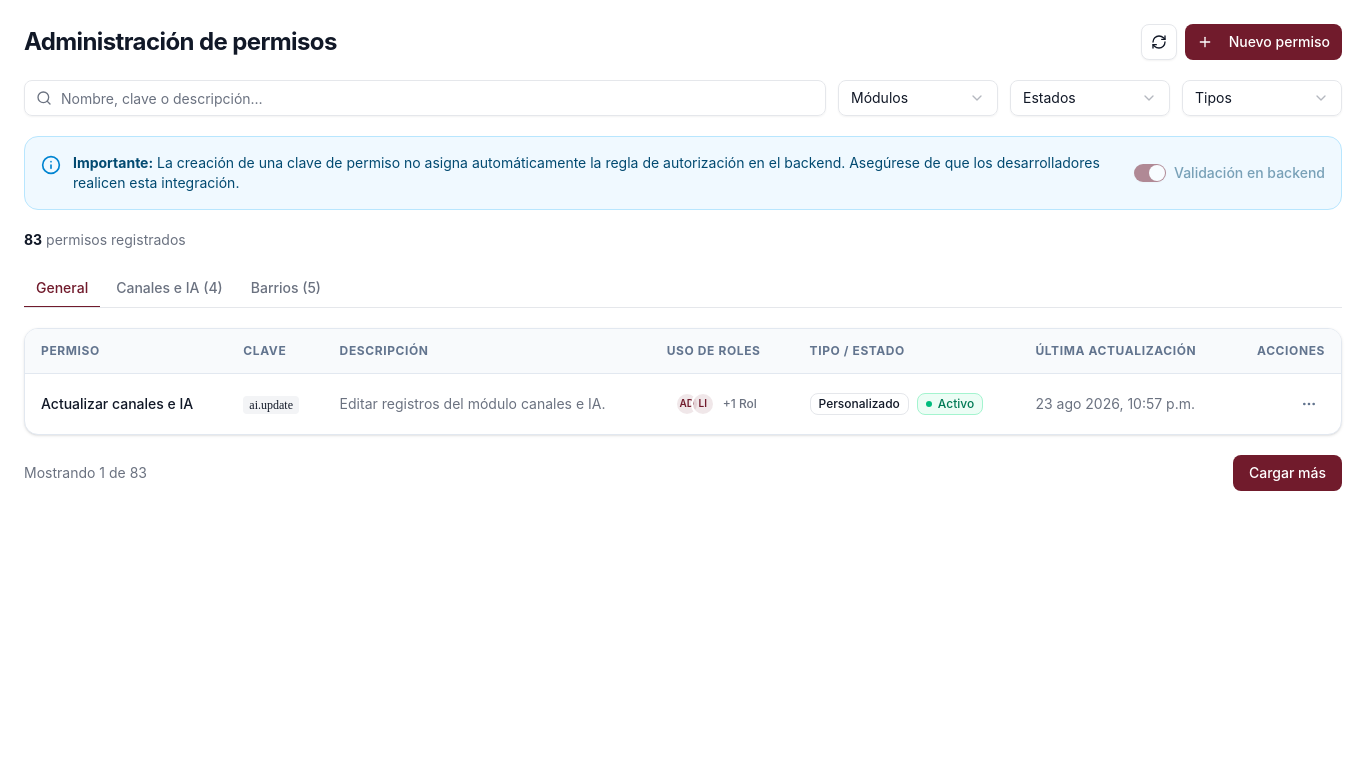
Test: PermissionsView › opens the clone dialog prefilled from the row
The width and height of the screenshot is (1366, 768).
Press Enter in the button named "Acciones para Actualizar canales e IA", box 1293,388 -> 1325,420
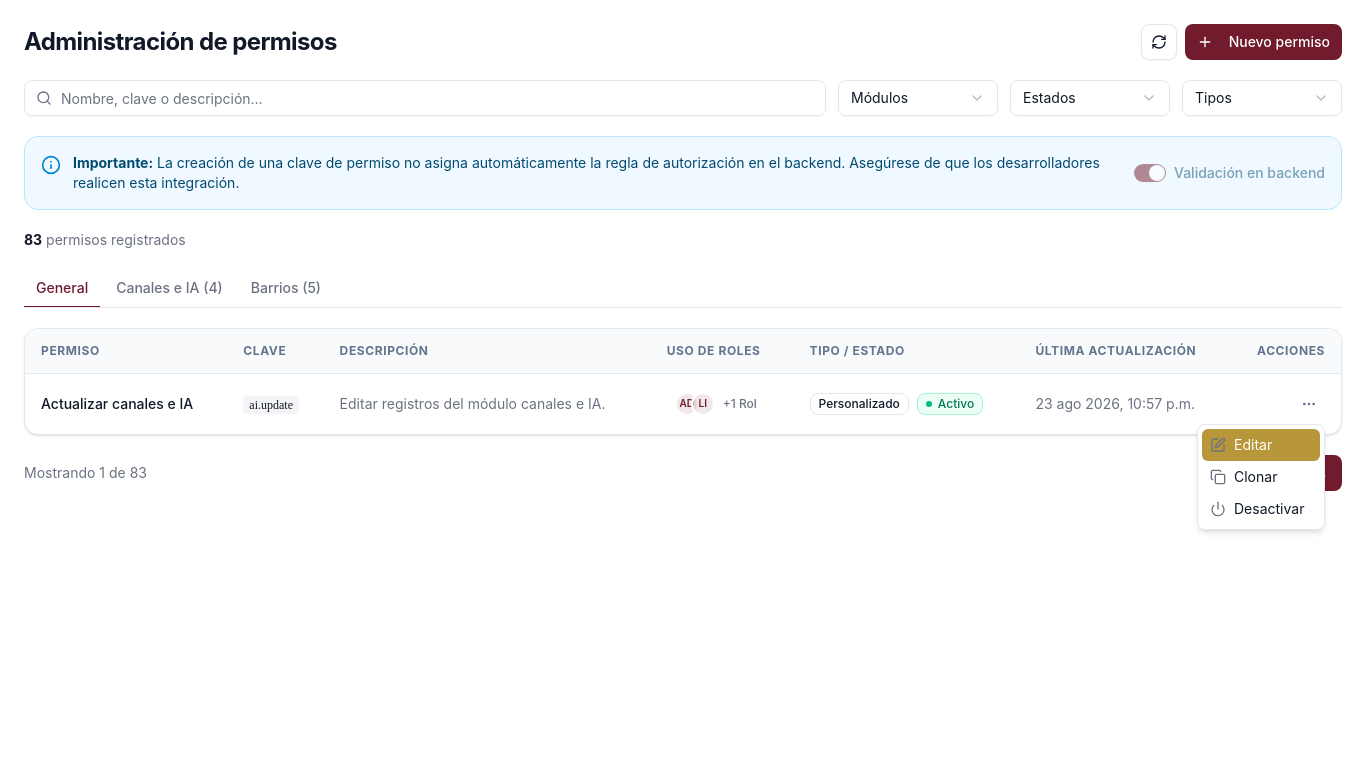
Click the menu item "Clonar" at (1244, 476), box 1210,468 -> 1277,485
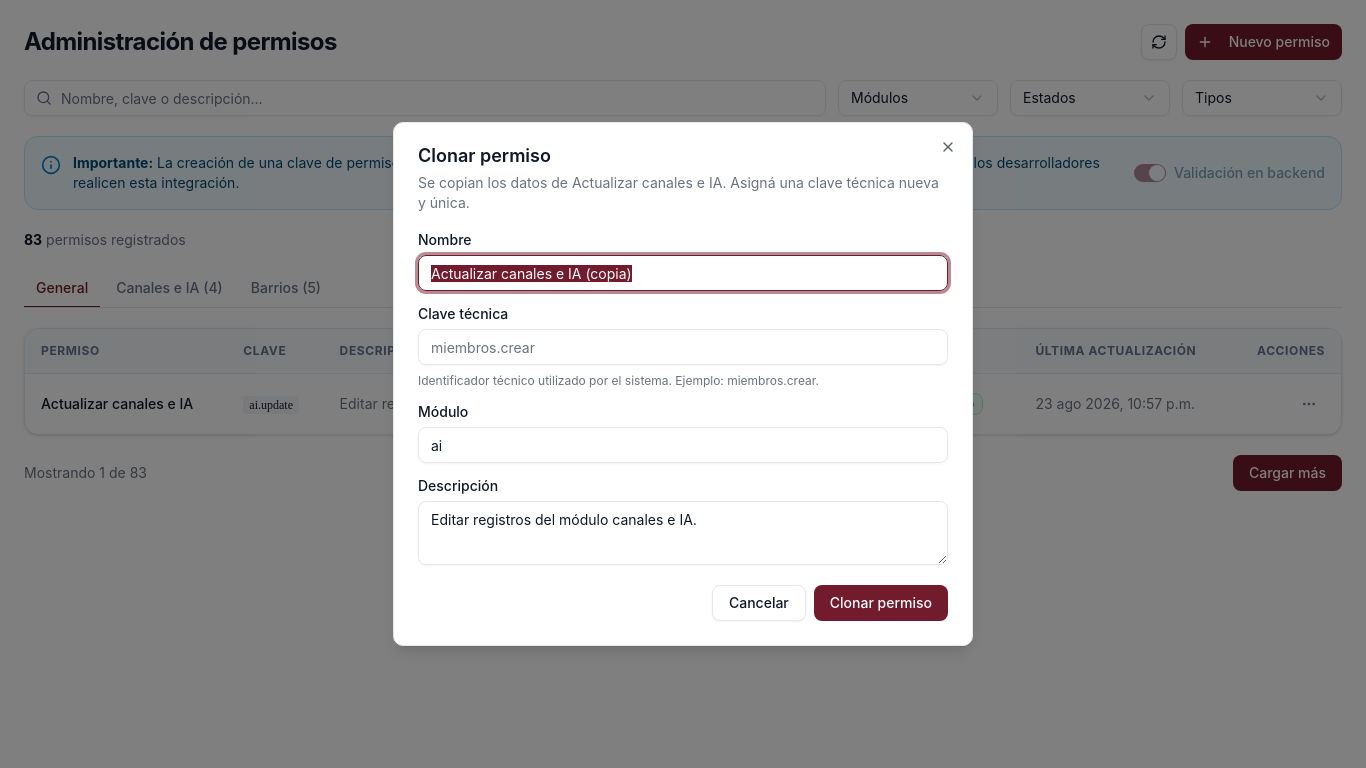
expect the heading "Clonar permiso" is shown: met, box 418,145 -> 551,166
expect the field labelled "Nombre" holds "Actualizar canales e IA (copia)": met, box 418,255 -> 948,291
expect the field labelled "Clave técnica" is empty: met, box 418,329 -> 948,365
